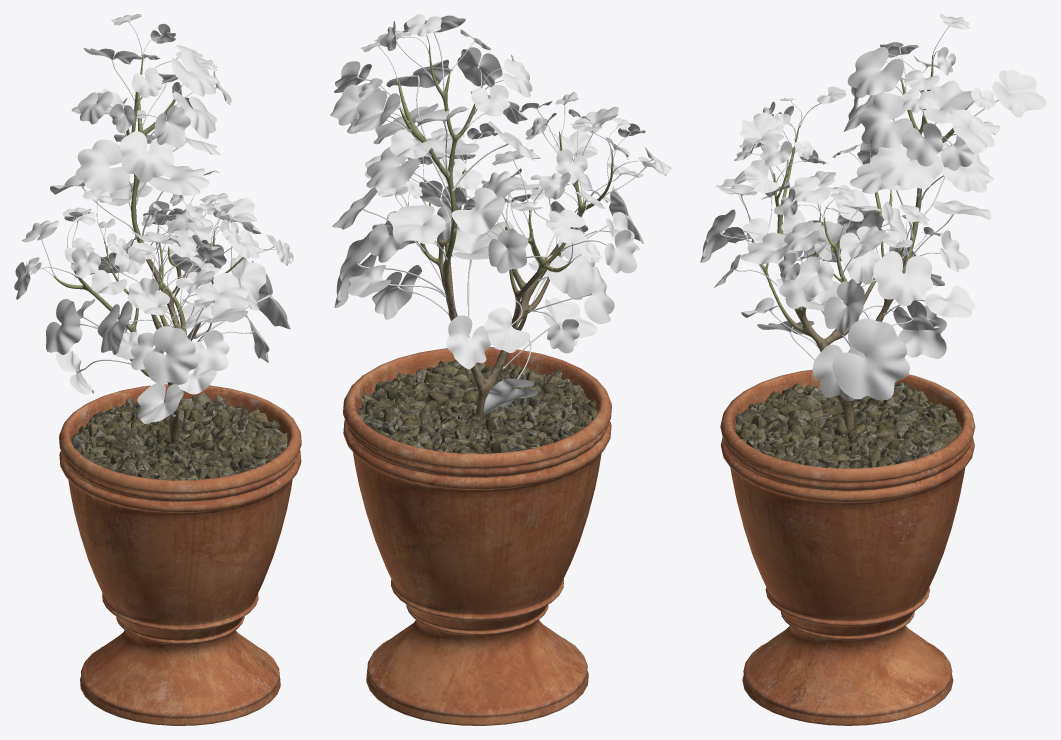
The model's file is potted_plant_01_1k.fbx.
3 renders of one model, left to right at view 1: azimuth 30°, elevation 25°; view 2: azimuth 150°, elevation 25°; view 3: azimuth 270°, elevation 25°, orthographic. The views are drawn at different scales.
Parts seen in each view (by area): view 1: potted_plant_01_pot, potted_plant_01_leaves, potted_plant_01_pebbles, potted_plant_01_stem; view 2: potted_plant_01_pot, potted_plant_01_leaves, potted_plant_01_pebbles, potted_plant_01_stem; view 3: potted_plant_01_pot, potted_plant_01_leaves, potted_plant_01_pebbles, potted_plant_01_stem.
Part boxes in pixels (bbox=[...]): potted_plant_01_pot: bbox=[59, 384, 301, 725]; potted_plant_01_leaves: bbox=[14, 14, 293, 423]; potted_plant_01_pebbles: bbox=[71, 392, 287, 480]; potted_plant_01_stem: bbox=[53, 54, 244, 443]; potted_plant_01_pot: bbox=[343, 347, 611, 725]; potted_plant_01_leaves: bbox=[330, 14, 671, 414]; potted_plant_01_pebbles: bbox=[358, 360, 597, 453]; potted_plant_01_stem: bbox=[397, 49, 612, 420]; potted_plant_01_pot: bbox=[720, 369, 975, 725]; potted_plant_01_leaves: bbox=[700, 14, 1046, 401]; potted_plant_01_pebbles: bbox=[735, 382, 961, 468]; potted_plant_01_stem: bbox=[751, 55, 966, 431].
Bounding box in the file's own units: 58.74 × 134 × 63.36.
2 materials, 1 textured.
